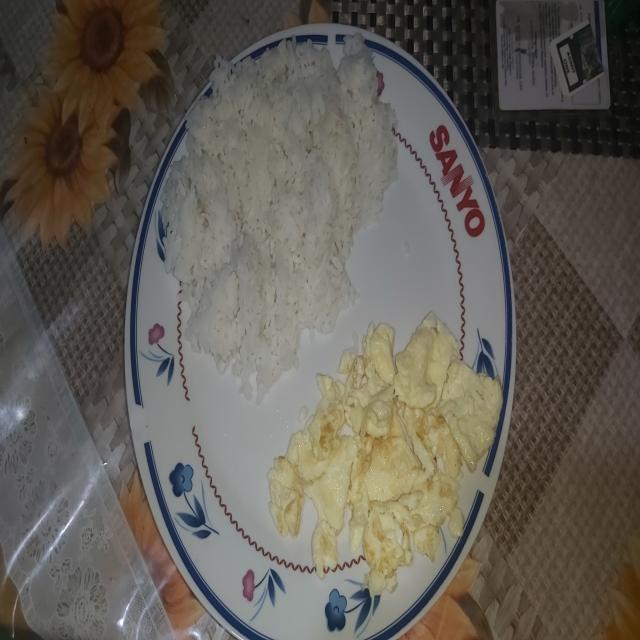Chicken -Chicken Inasal-: (170, 27, 390, 370)
